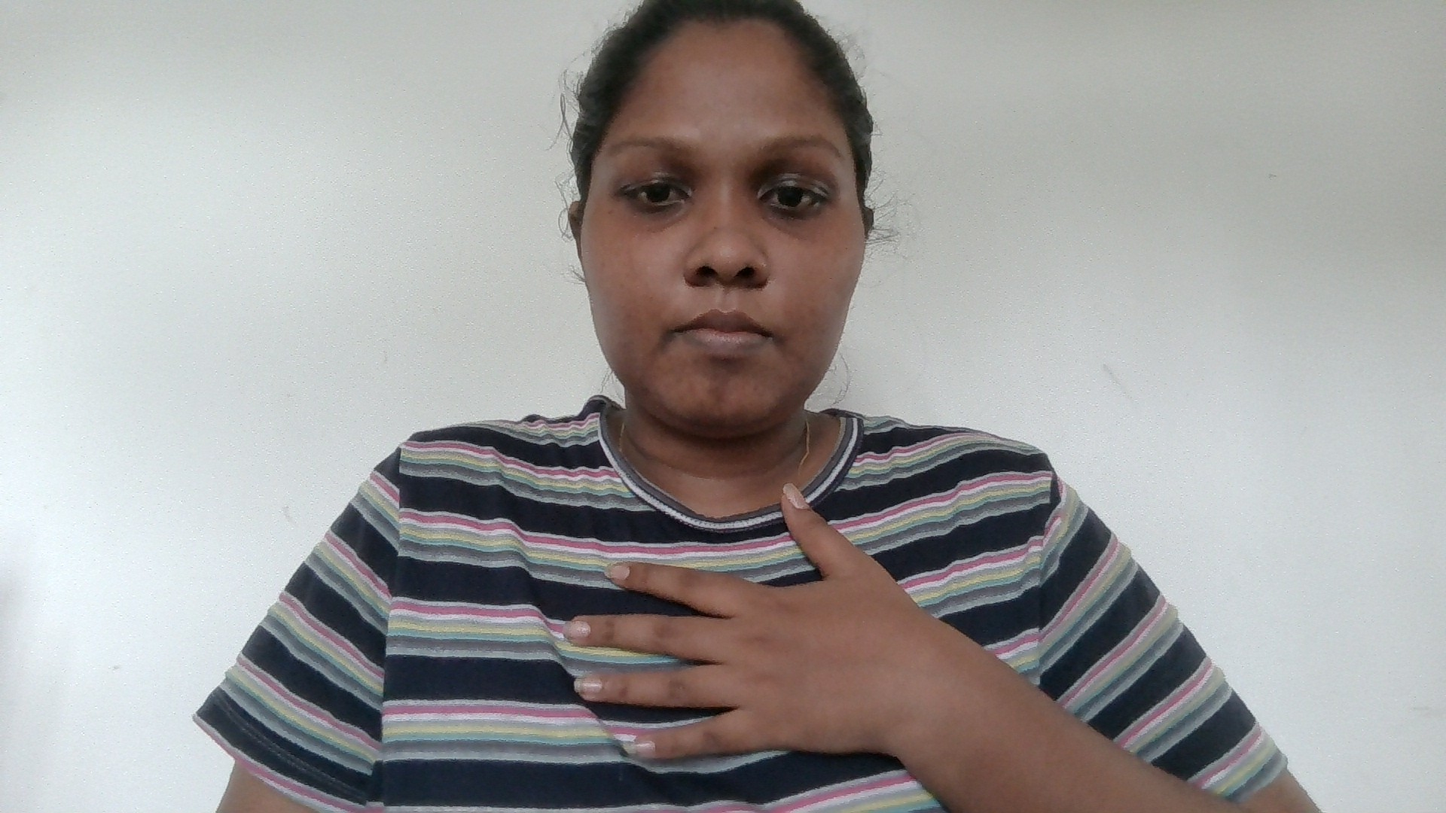Please: (557, 522, 988, 813)
